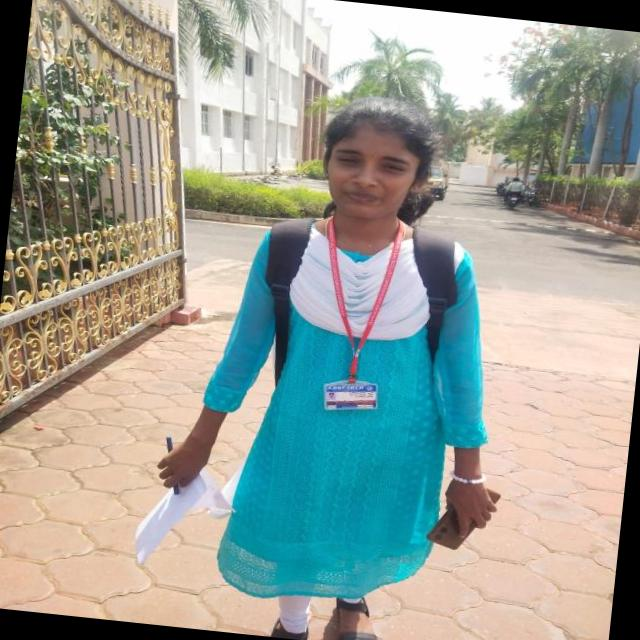id_card: (310, 218, 405, 416)
